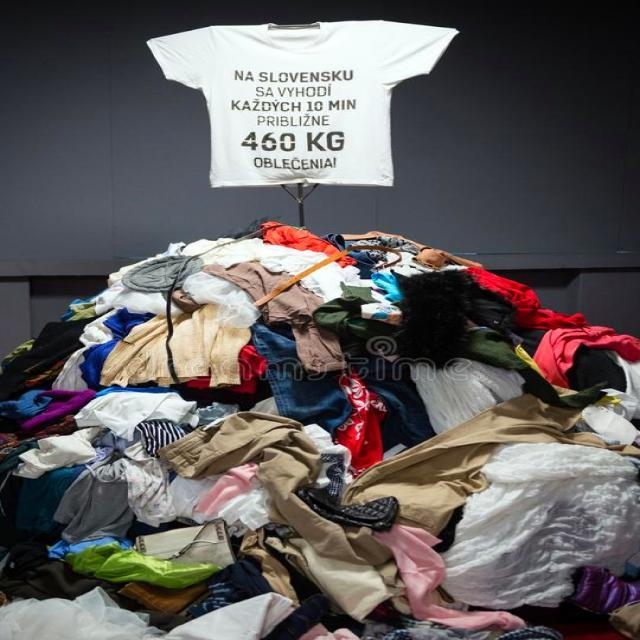clothes: (48, 243, 638, 640)
